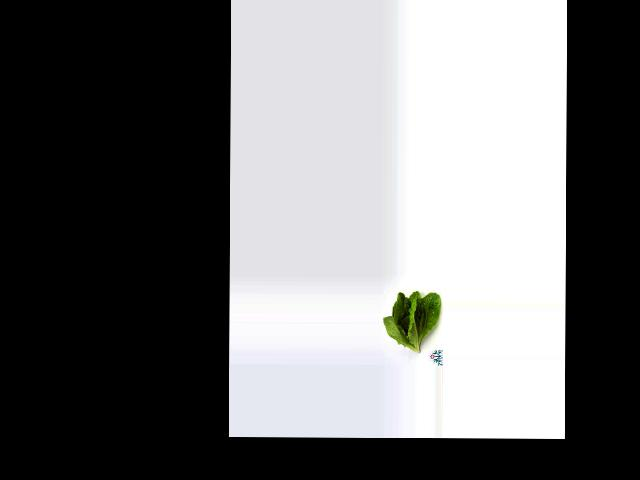lettuce: (382, 289, 439, 352)
